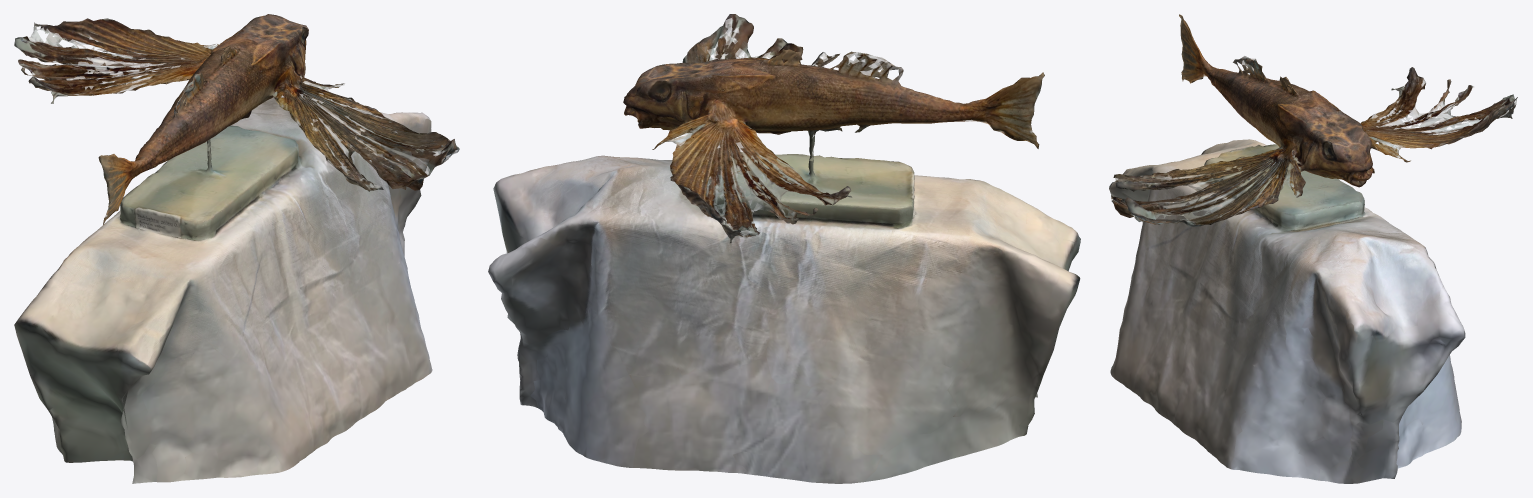
The picture shows the model from 3 angles, left to right: view 1: azimuth 30°, elevation 25°; view 2: azimuth 150°, elevation 25°; view 3: azimuth 270°, elevation 25°; orthographic projection. The views are drawn at different scales.
Parts seen in each view (by area): view 1: model_C770092F; view 2: model_C770092F; view 3: model_C770092F.
Boxes of the visible parts, x1,y1,x2,y2 form: model_C770092F: (14,14,459,483); model_C770092F: (488,14,1080,483); model_C770092F: (1109,14,1517,483).
Size of the model in its own units: 1.68 by 1.14 by 1.35.
2 materials, 2 textured.
